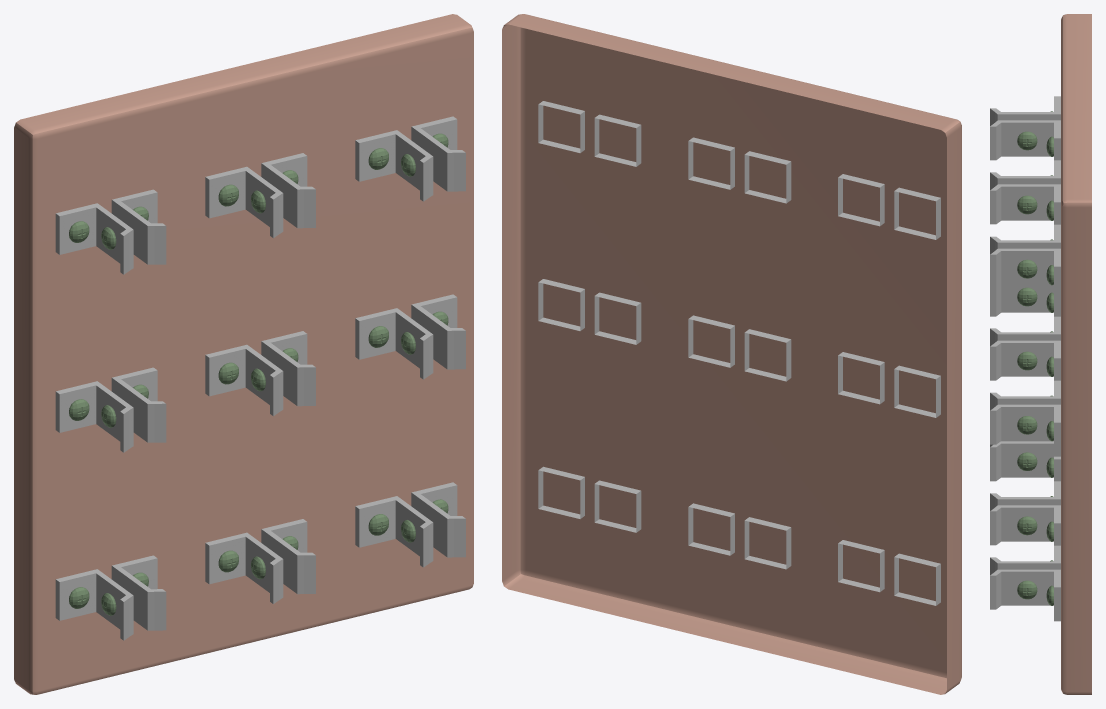
The model's file is SM_LeverBase_01.fbx.
The picture shows the model from 3 angles, left to right: view 1: azimuth 30°, elevation 25°; view 2: azimuth 150°, elevation 25°; view 3: azimuth 270°, elevation 25°; orthographic projection. The views are drawn at different scales.
Visible parts, largest first — view 1: pCube362, pCube368; view 2: pCube362, pCube368; view 3: pCube368, pCube362.
Boxes of the visible parts, x1=… form: pCube362: x1=14, y1=14, x2=473, y2=694; pCube368: x1=55, y1=116, x2=465, y2=640; pCube362: x1=502, y1=14, x2=961, y2=694; pCube368: x1=538, y1=101, x2=940, y2=605; pCube368: x1=990, y1=96, x2=1060, y2=621; pCube362: x1=1061, y1=14, x2=1091, y2=694.
Size of the model in its own units: 81.04 by 98.37 by 18.33.
